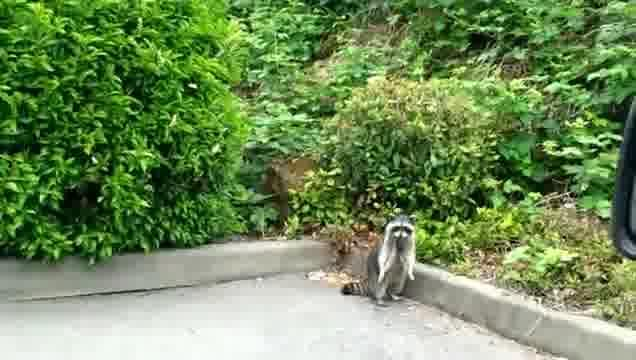raccoon: (340, 214, 418, 312)
